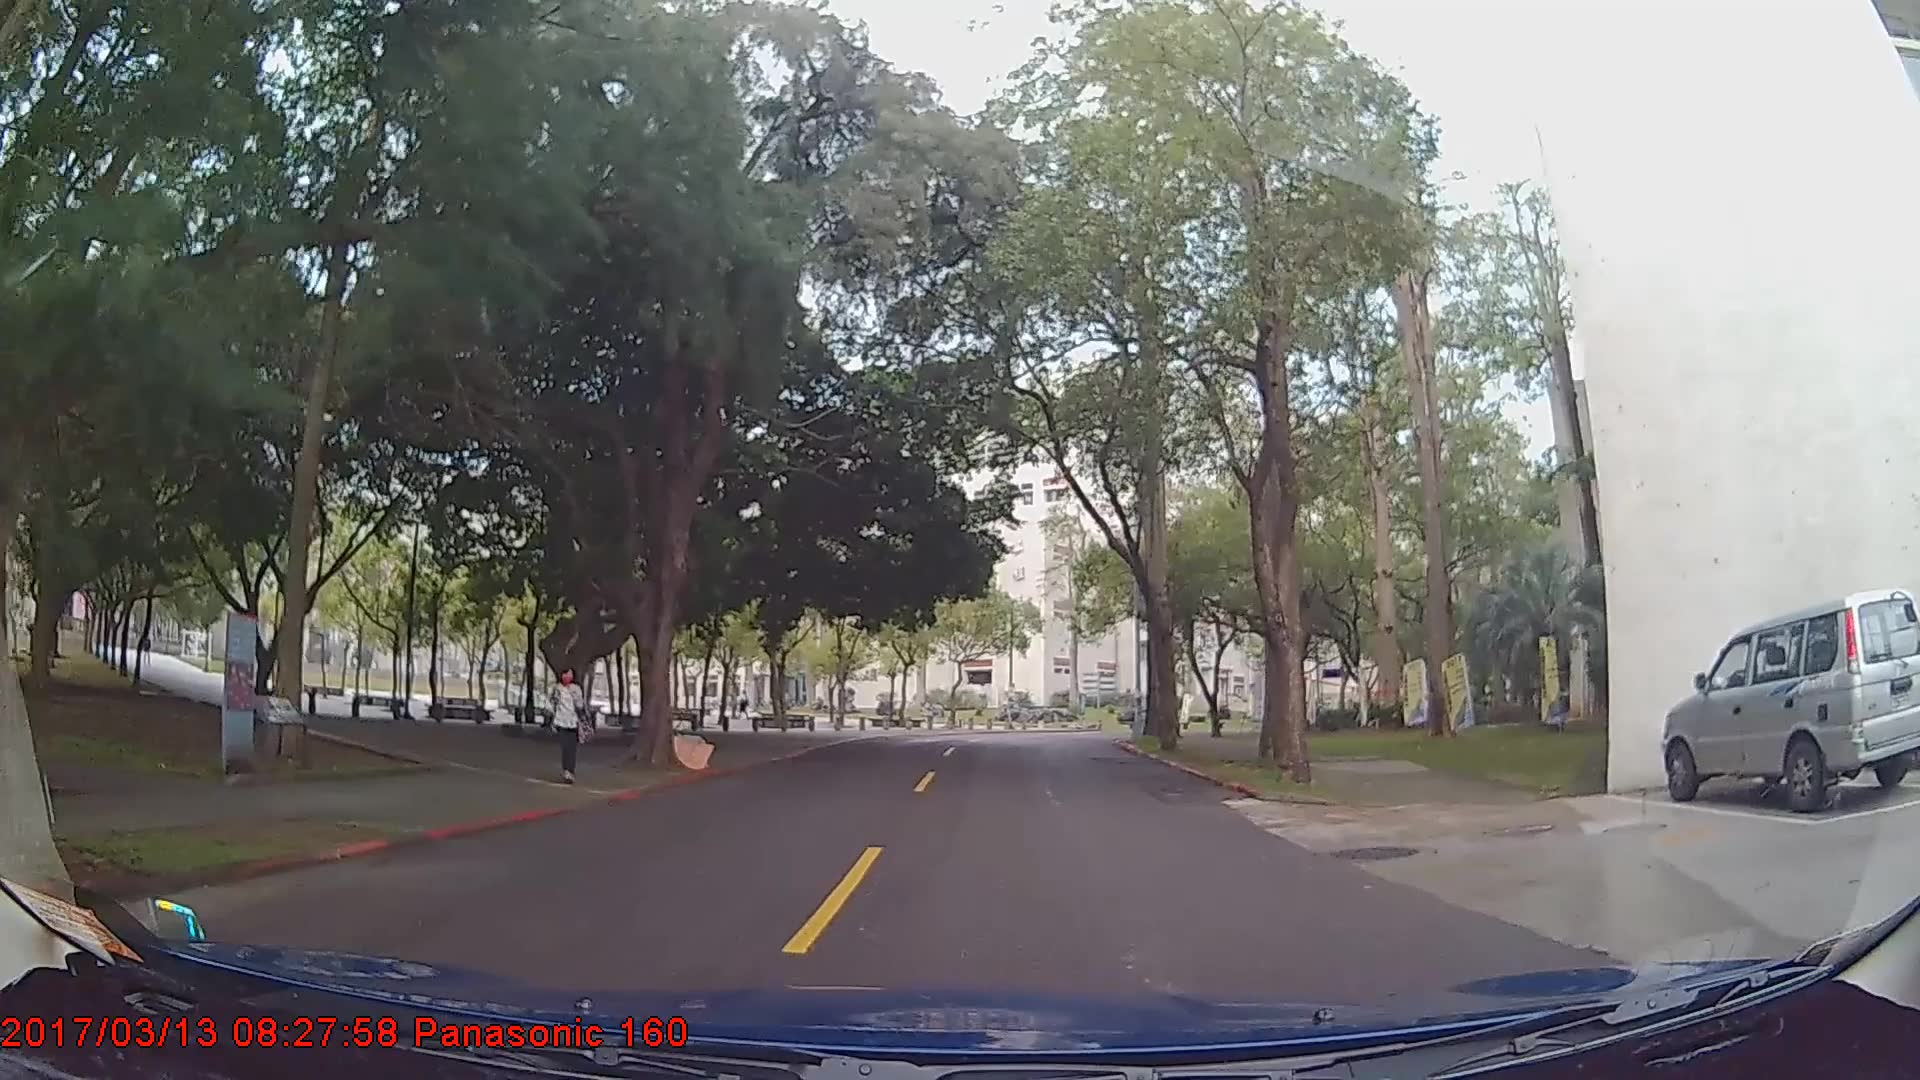pedestrian: (545, 663, 592, 781)
vehicle: (1661, 585, 1920, 815)
